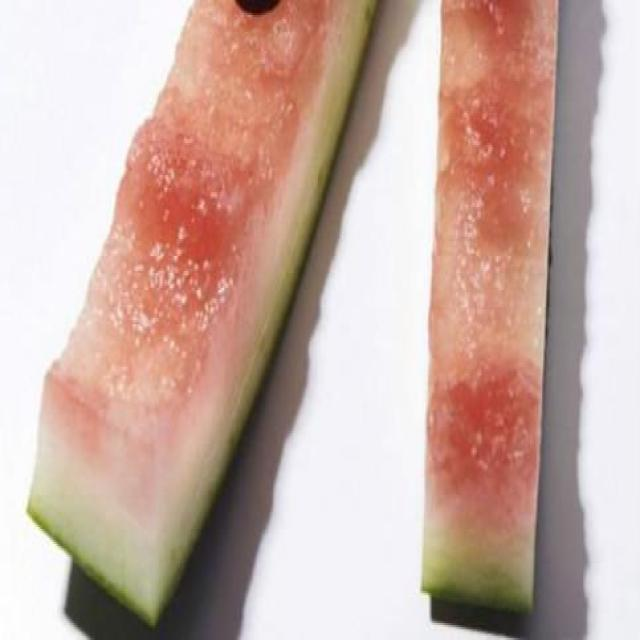-Kitchen waste - fruit-: (35, 0, 377, 630), (419, 0, 564, 612)
